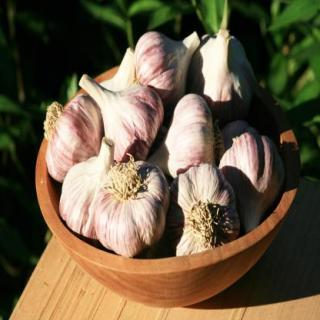Bawang Putih: (79, 73, 165, 163), (95, 161, 169, 259), (167, 165, 242, 255), (60, 141, 123, 244), (153, 95, 217, 179), (46, 94, 104, 183), (136, 24, 201, 103)
